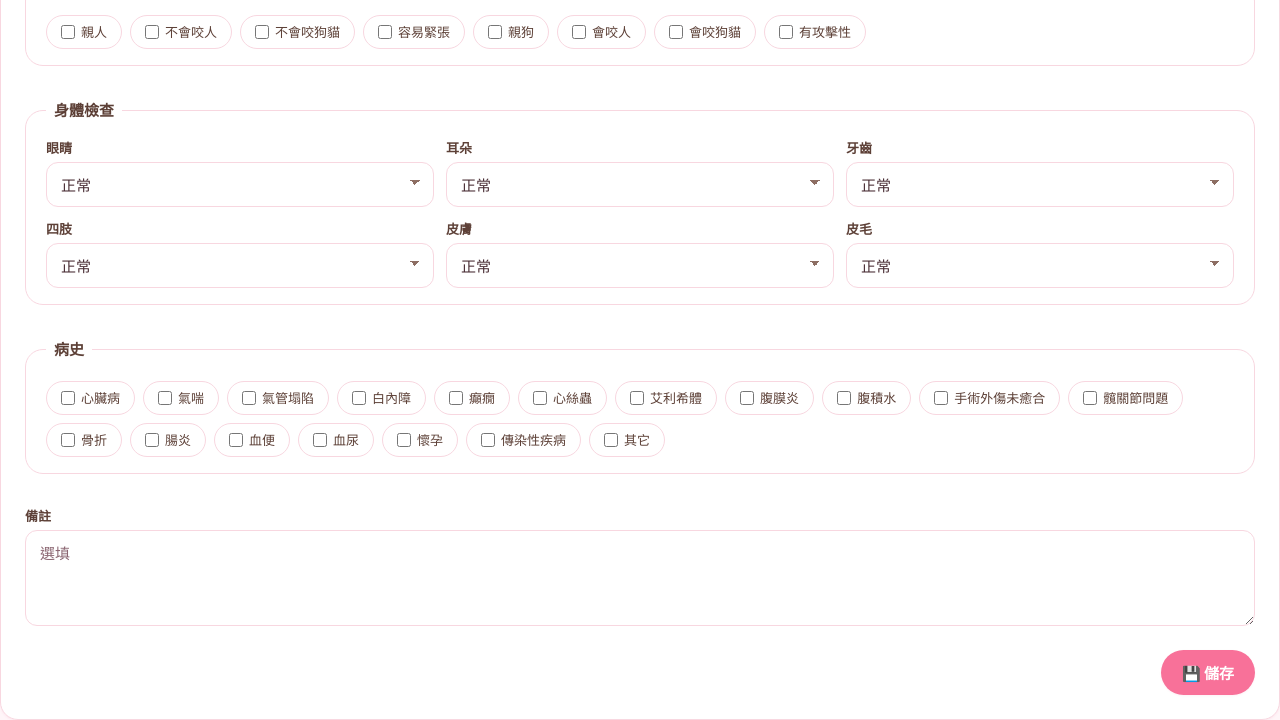
Test: PetForm › shows "其它" text field when "其它" checkbox checked
(page scrolled)
Click the checkbox with test id "medical-other-checkbox" at (611, 440), box [604,433,618,447]
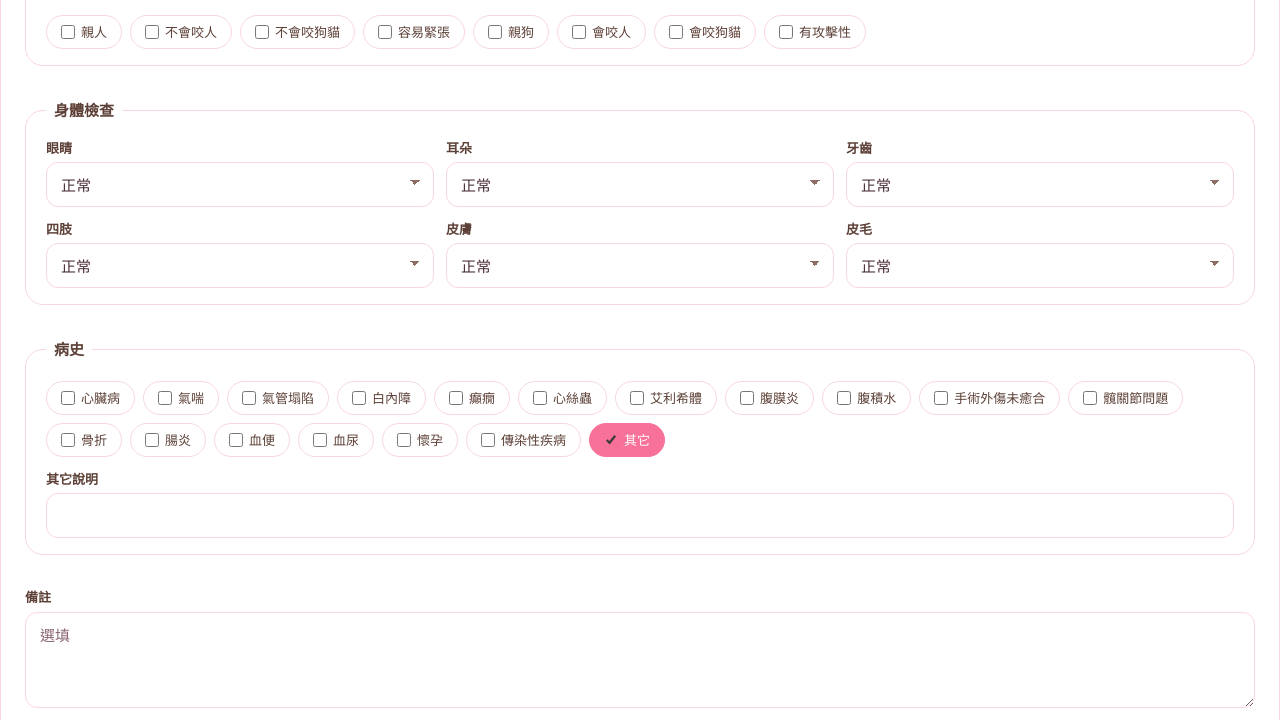
Check: the element showing "其它說明" is shown, box [46,469,1234,538]
